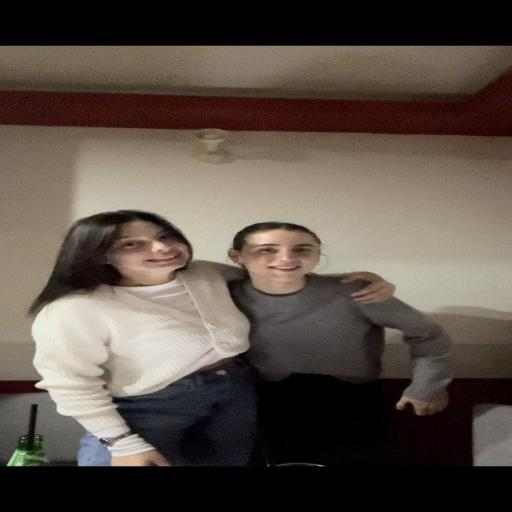masa: (236, 222, 324, 278)
